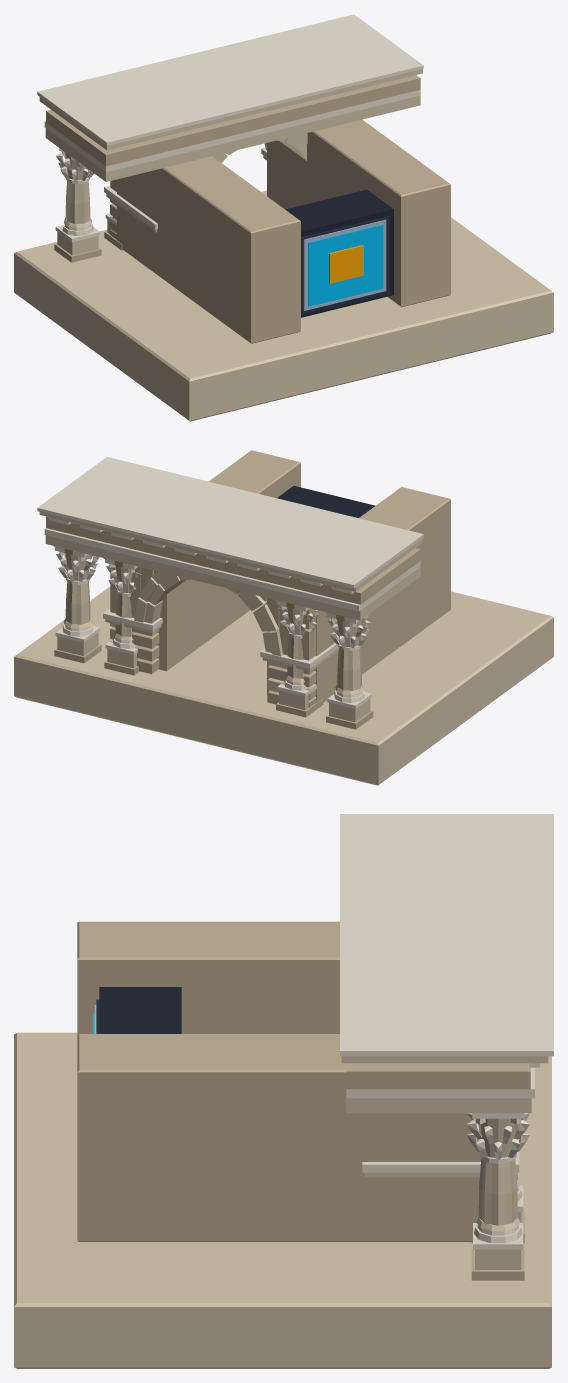
Rendered from UMOD_05_North_Imperial_Reactor_Crest.fbx.
3 views of the same model, one above another, from view 1: azimuth 30°, elevation 25°; view 2: azimuth 150°, elevation 25°; view 3: azimuth 270°, elevation 25° (orthographic). The views are drawn at different scales.
Parts seen in each view (by area): view 1: UMOD_05_North_Imperial_Reactor_Crest; view 2: UMOD_05_North_Imperial_Reactor_Crest; view 3: UMOD_05_North_Imperial_Reactor_Crest.
Part boxes in pixels (left/top/right/bottom): UMOD_05_North_Imperial_Reactor_Crest: left=14, top=14, right=553, bottom=421; UMOD_05_North_Imperial_Reactor_Crest: left=14, top=450, right=553, bottom=785; UMOD_05_North_Imperial_Reactor_Crest: left=14, top=814, right=553, bottom=1368.
Size of the model in its own units: 20.4 by 10.5 by 17.06.
